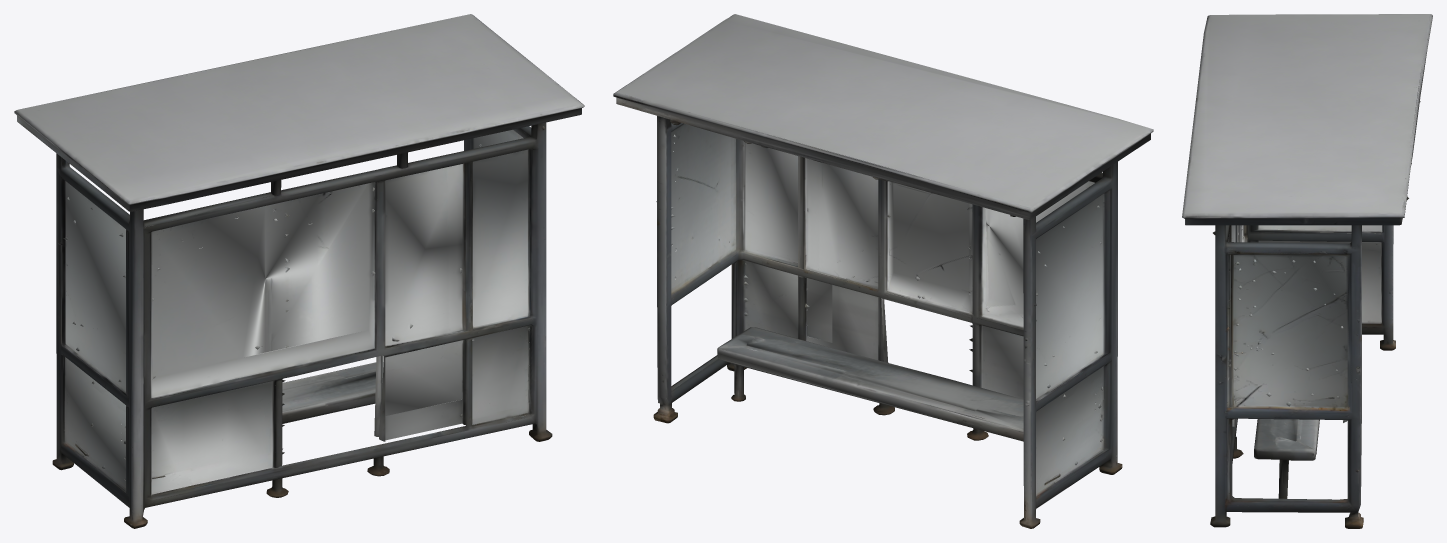
Rendered from bus_stop_01.fbx.
The picture shows the model from 3 angles, left to right: view 1: azimuth 30°, elevation 25°; view 2: azimuth 150°, elevation 25°; view 3: azimuth 270°, elevation 25°; orthographic projection. The views are drawn at different scales.
Parts seen in each view (by area): view 1: tripo_node_dc3c245f; view 2: tripo_node_dc3c245f; view 3: tripo_node_dc3c245f.
Part boxes in pixels (x1,y1,x2,y2): tripo_node_dc3c245f: (14,14,584,528); tripo_node_dc3c245f: (613,14,1153,528); tripo_node_dc3c245f: (1182,14,1432,528).
Size of the model in its own units: 1 by 0.7417 by 0.5186.
Materials: 1 (1 with a texture image).
